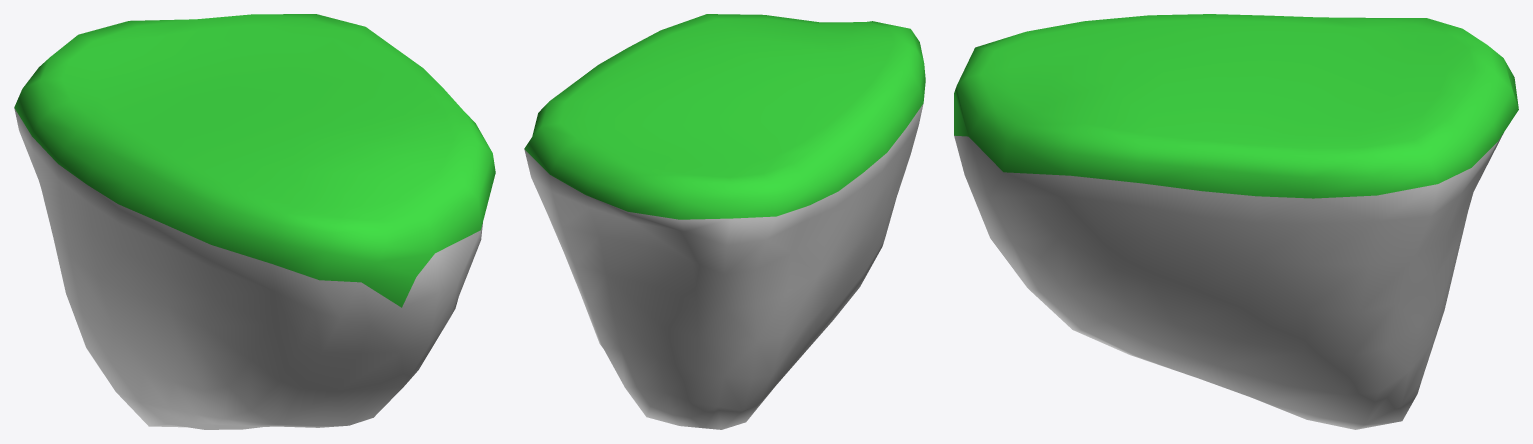
File: platform_r_2_02.fbx
The picture shows the model from 3 angles, left to right: view 1: azimuth 30°, elevation 25°; view 2: azimuth 150°, elevation 25°; view 3: azimuth 270°, elevation 25°; orthographic projection. The views are drawn at different scales.
Visible parts, largest first — view 1: platform_l_02; view 2: platform_l_02; view 3: platform_l_02.
Part boxes in pixels (x1=…): platform_l_02: x1=14, y1=14, x2=495, y2=429; platform_l_02: x1=524, y1=14, x2=925, y2=429; platform_l_02: x1=954, y1=14, x2=1518, y2=429.
Bounding box in the file's own units: 7.75 × 7.77 × 11.39.
